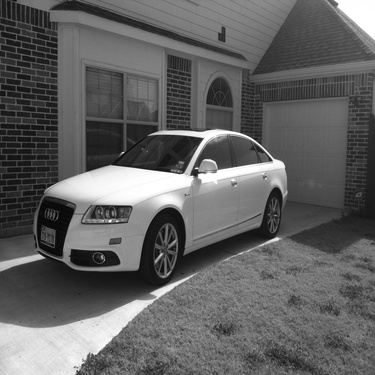car: (25, 121, 292, 288)
